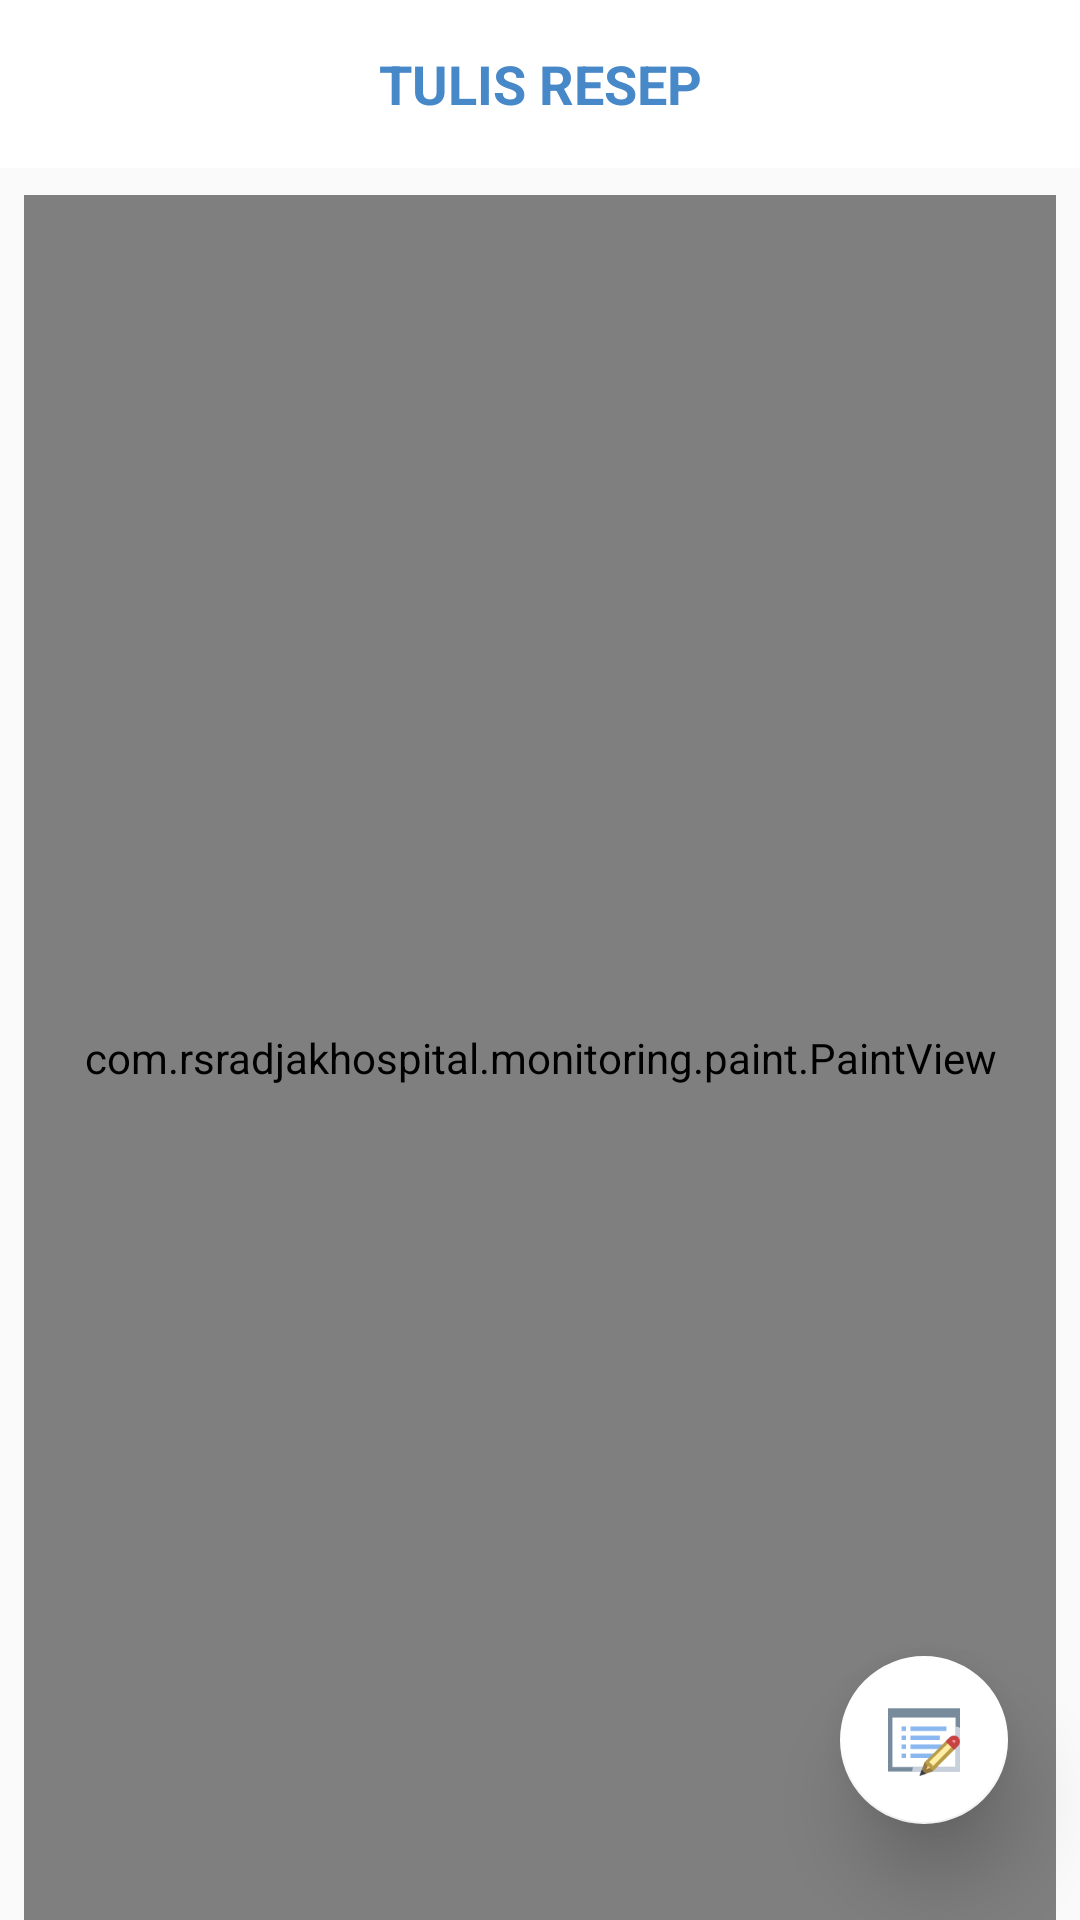

Named icons in this screenshot (1080×1920) and their centers, (x,y):
edit: (924,1740)
